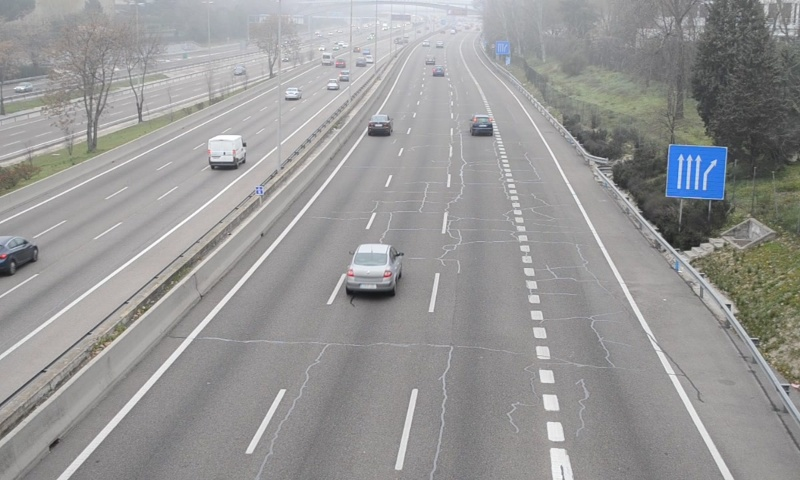car: (346, 244, 401, 291), (367, 113, 391, 136), (471, 114, 493, 136)
